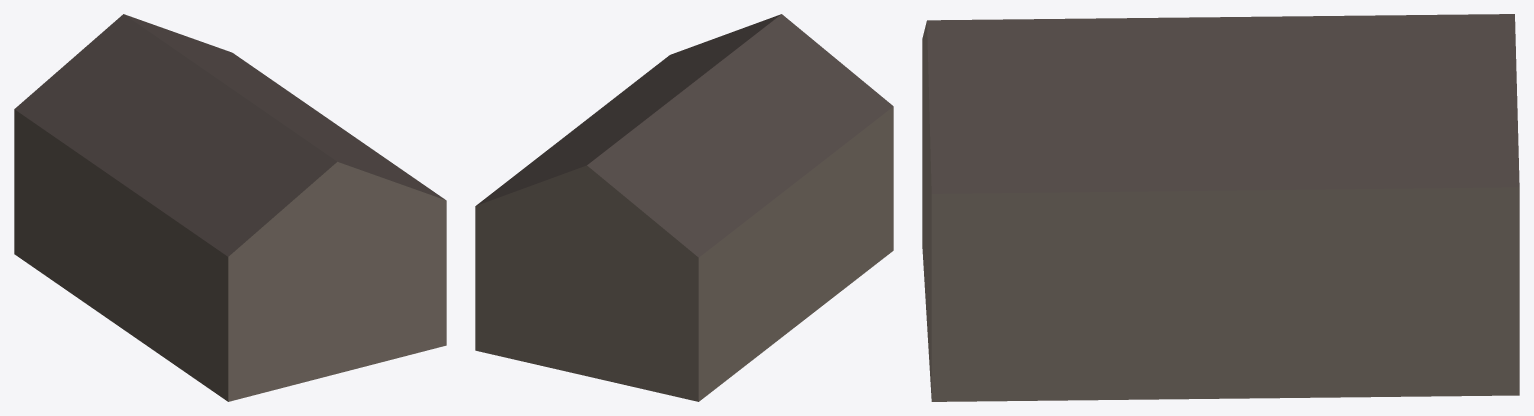
The picture shows the model from 3 angles, left to right: view 1: azimuth 30°, elevation 25°; view 2: azimuth 150°, elevation 25°; view 3: azimuth 270°, elevation 25°; orthographic projection. The views are drawn at different scales.
Parts seen in each view (by area): view 1: HP-w859447967; view 2: HP-w859447967; view 3: HP-w859447967.
Boxes of the visible parts, x1,y1,x2,y2 form: HP-w859447967: (14,14,446,401); HP-w859447967: (475,14,893,401); HP-w859447967: (922,14,1519,401).
Size of the model in its own units: 9.99 by 8.77 by 15.61.
